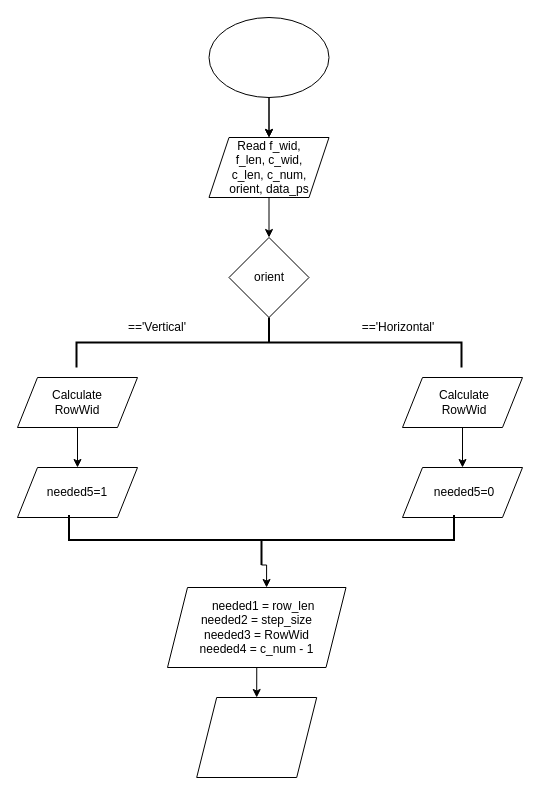
This 540x795 diagram has some shape labels left out. Each missing label, with the centre of its shape:
print "needed" variables to "input.txt" for embeded code: [256,737]
Start: [268,57]
